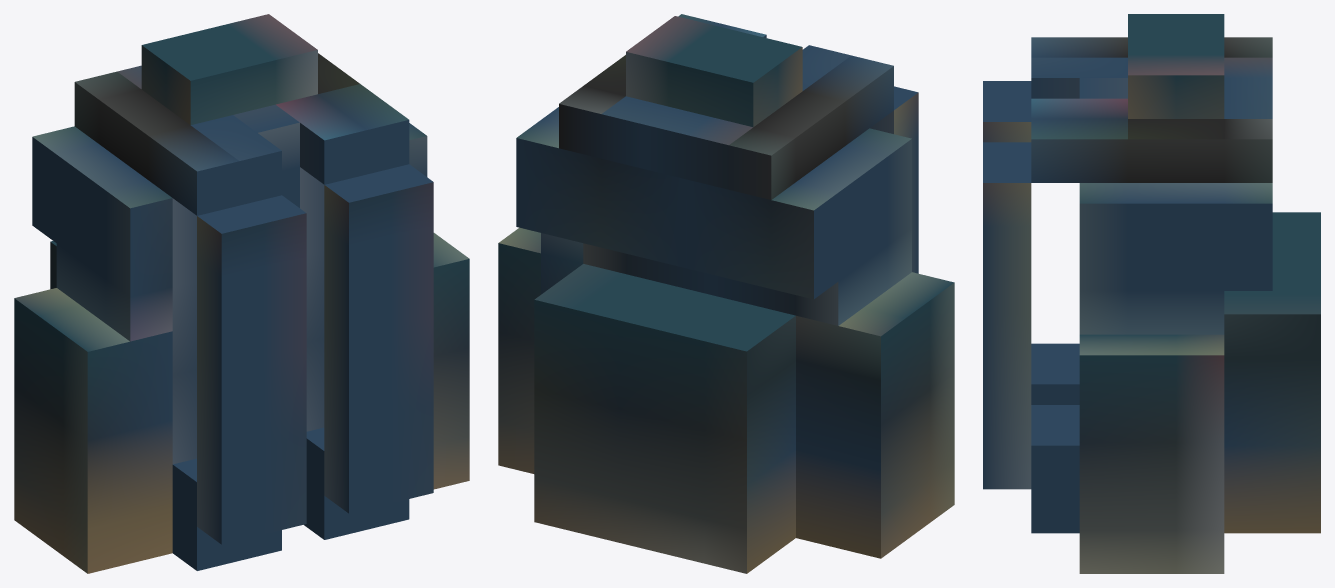
File: BackpackBlue_00.obj
The picture shows the model from 3 angles, left to right: view 1: azimuth 30°, elevation 25°; view 2: azimuth 150°, elevation 25°; view 3: azimuth 270°, elevation 25°; orthographic projection.
Visible parts, largest first — view 1: BackpackBlue_00; view 2: BackpackBlue_00; view 3: BackpackBlue_00.
Part boxes in pixels (x1,y1,x2,y2): BackpackBlue_00: (14,14,469,573); BackpackBlue_00: (498,14,954,573); BackpackBlue_00: (983,14,1320,573).
Bounding box in the file's own units: 0.45 × 0.5 × 0.35.
